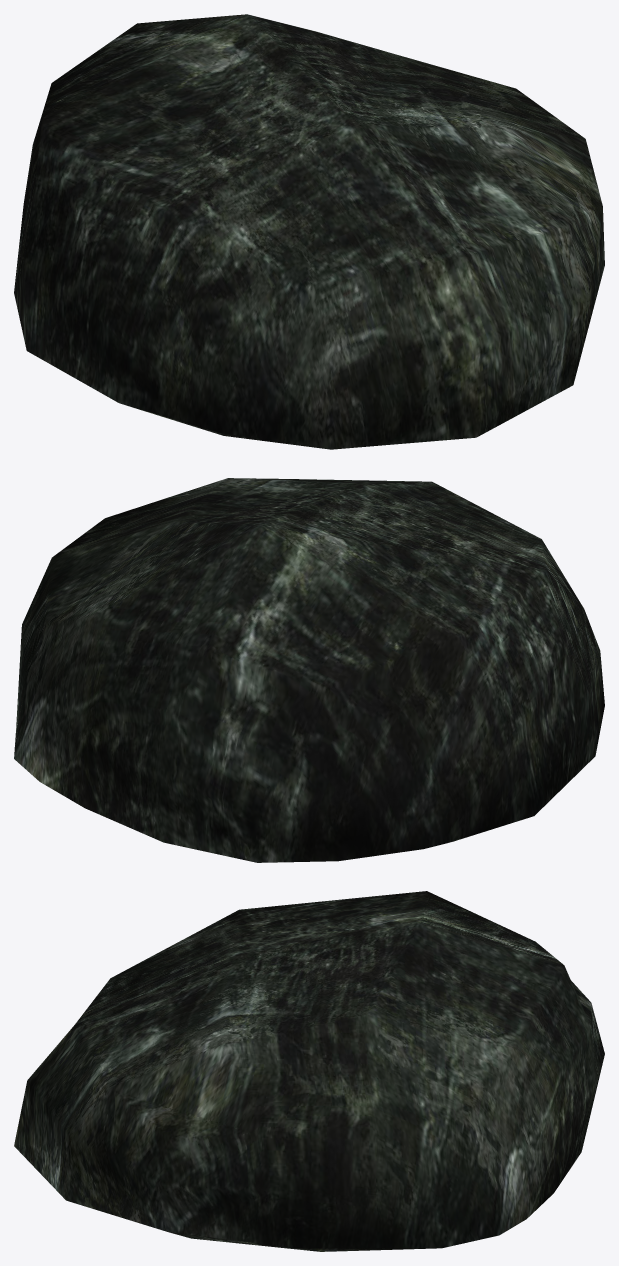
File: rock2.fbx
3 renders of one model, top to bottom at view 1: azimuth 30°, elevation 25°; view 2: azimuth 150°, elevation 25°; view 3: azimuth 270°, elevation 25°, orthographic. The views are drawn at different scales.
Parts seen in each view (by area): view 1: Scene_Root; view 2: Scene_Root; view 3: Scene_Root.
Part boxes in pixels (x1=…): Scene_Root: x1=14, y1=14, x2=604, y2=449; Scene_Root: x1=14, y1=478, x2=604, y2=862; Scene_Root: x1=14, y1=891, x2=604, y2=1251.
Bounding box in the file's own units: 2.36 × 1.2 × 2.72.
